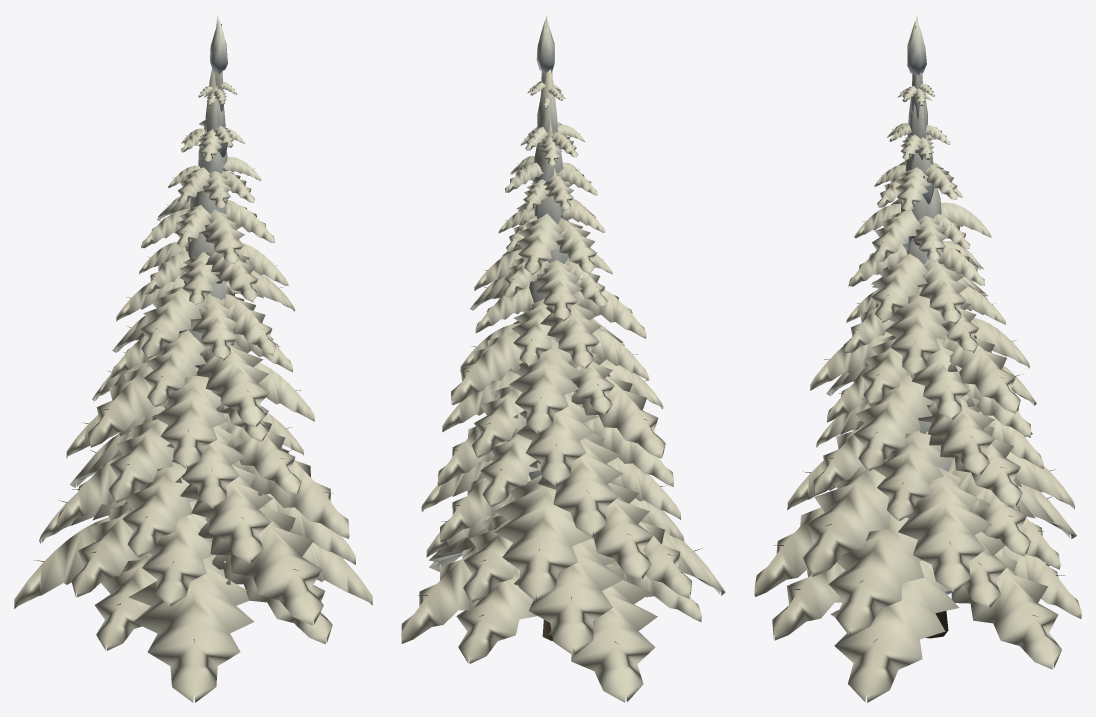
3 renders of one model, left to right at view 1: azimuth 30°, elevation 25°; view 2: azimuth 150°, elevation 25°; view 3: azimuth 270°, elevation 25°, orthographic. The views are drawn at different scales.
Visible parts, largest first — view 1: crown; view 2: crown; view 3: crown.
Part boxes in pixels (x1,y1,x2,y2): crown: (14,15,372,702); crown: (401,14,725,702); crown: (754,15,1081,702).
Bounding box in the file's own units: 7.02 × 14.68 × 6.93.
